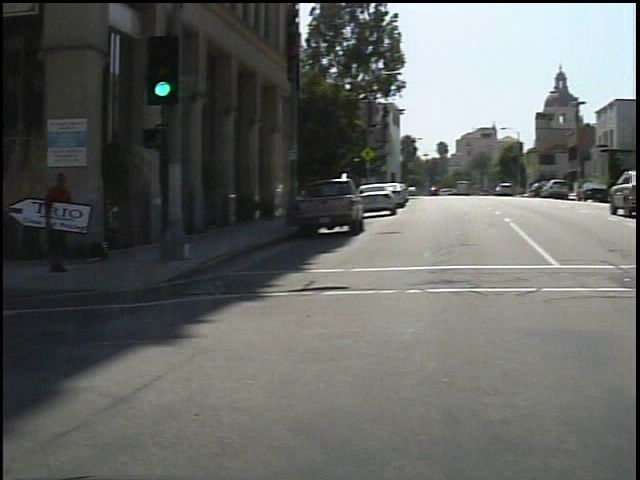person: (33, 160, 85, 281)
